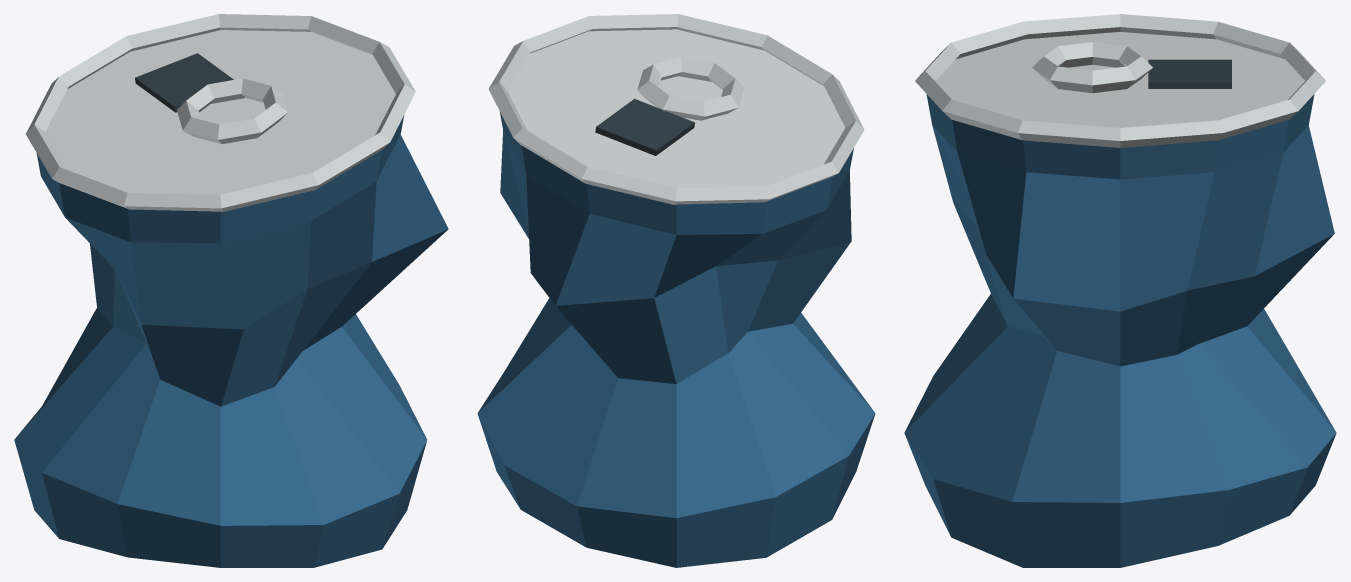
Rendered from b16_crushed_soda_can.glb.
3 renders of one model, left to right at view 1: azimuth 30°, elevation 25°; view 2: azimuth 150°, elevation 25°; view 3: azimuth 270°, elevation 25°, orthographic. The views are drawn at different scales.
Parts seen in each view (by area): view 1: b16_crushed_soda_can; view 2: b16_crushed_soda_can; view 3: b16_crushed_soda_can.
Part boxes in pixels (x1,y1,x2,y2): b16_crushed_soda_can: (14,14,448,567); b16_crushed_soda_can: (477,14,875,567); b16_crushed_soda_can: (904,14,1336,567).
Size of the model in its own units: 0.0627 by 0.0711 by 0.062.
